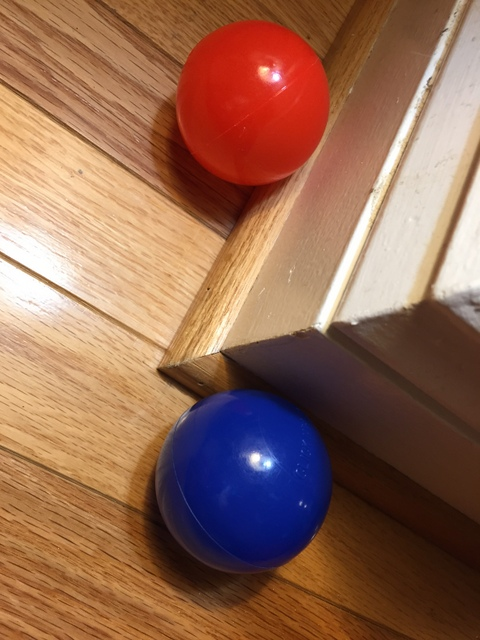Ball: (179, 17, 335, 185)
